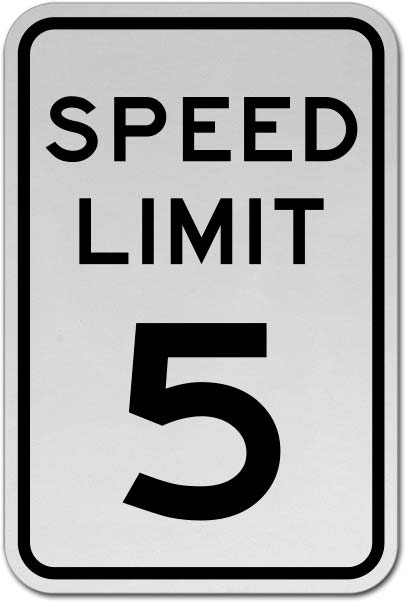speed limit: (31, 68, 357, 538)
